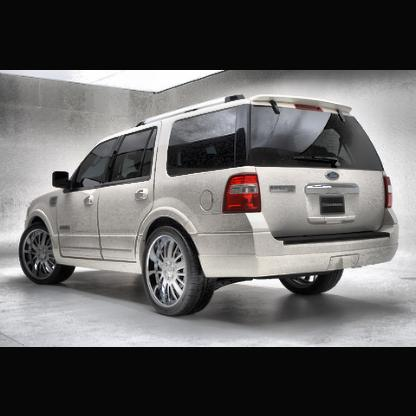Ford Expedition EL SUV 2009: (19, 92, 402, 319)
